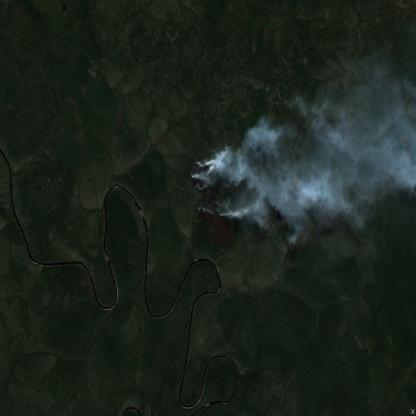fire: (184, 129, 279, 267)
